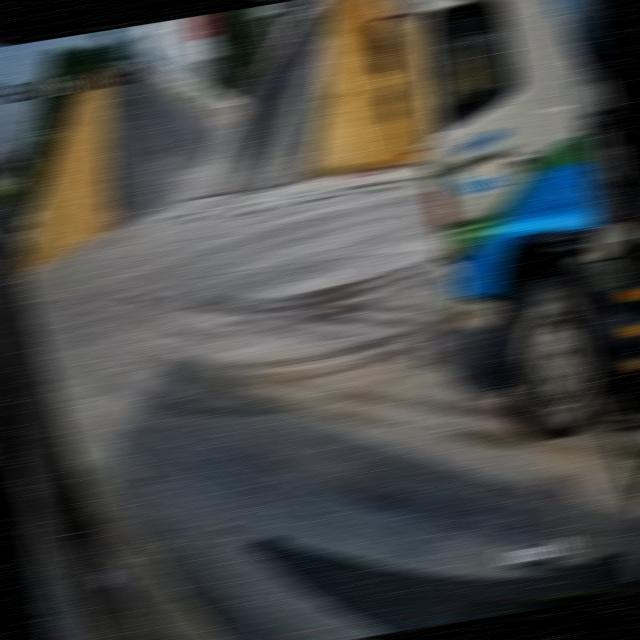cement_mixer_truck: (368, 0, 640, 435)
